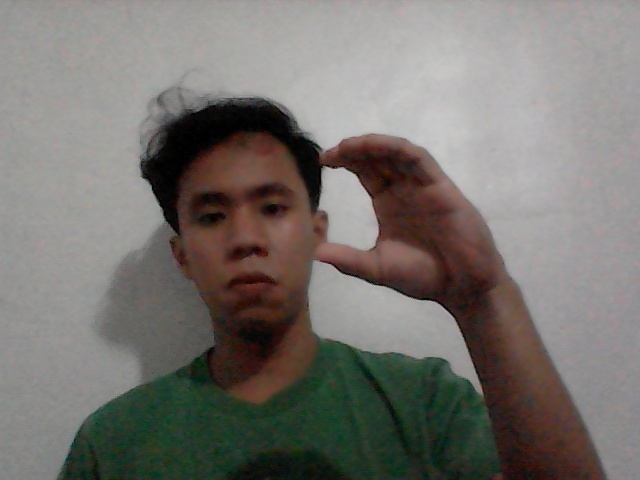C: (287, 118, 512, 323)
